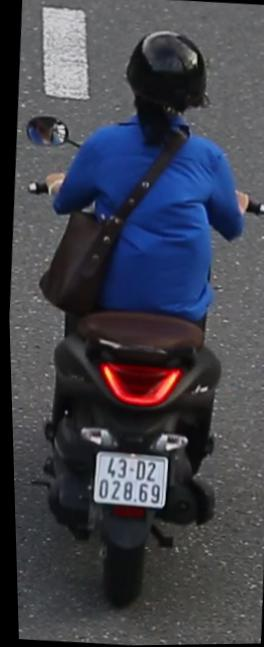LP: (87, 446, 172, 516)
helmet: (120, 22, 215, 133)
